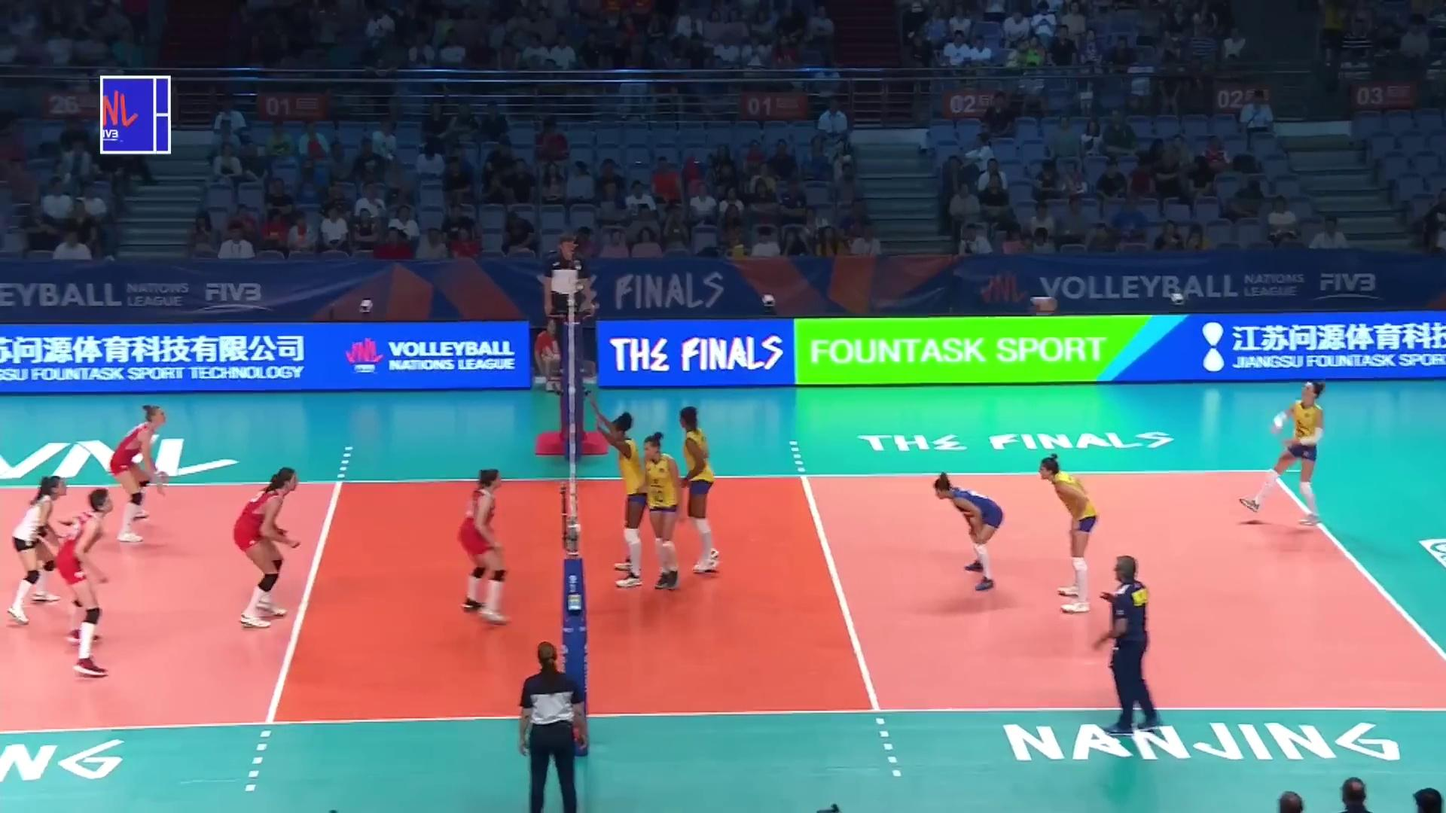player: (1236, 382, 1327, 525), (235, 468, 302, 629), (56, 490, 112, 676), (593, 400, 644, 588), (1038, 455, 1098, 612), (109, 405, 171, 548), (461, 467, 516, 625), (8, 477, 66, 626), (932, 475, 1004, 594), (677, 405, 720, 572), (642, 435, 684, 592)
refree: (515, 643, 583, 810), (546, 235, 590, 373)
